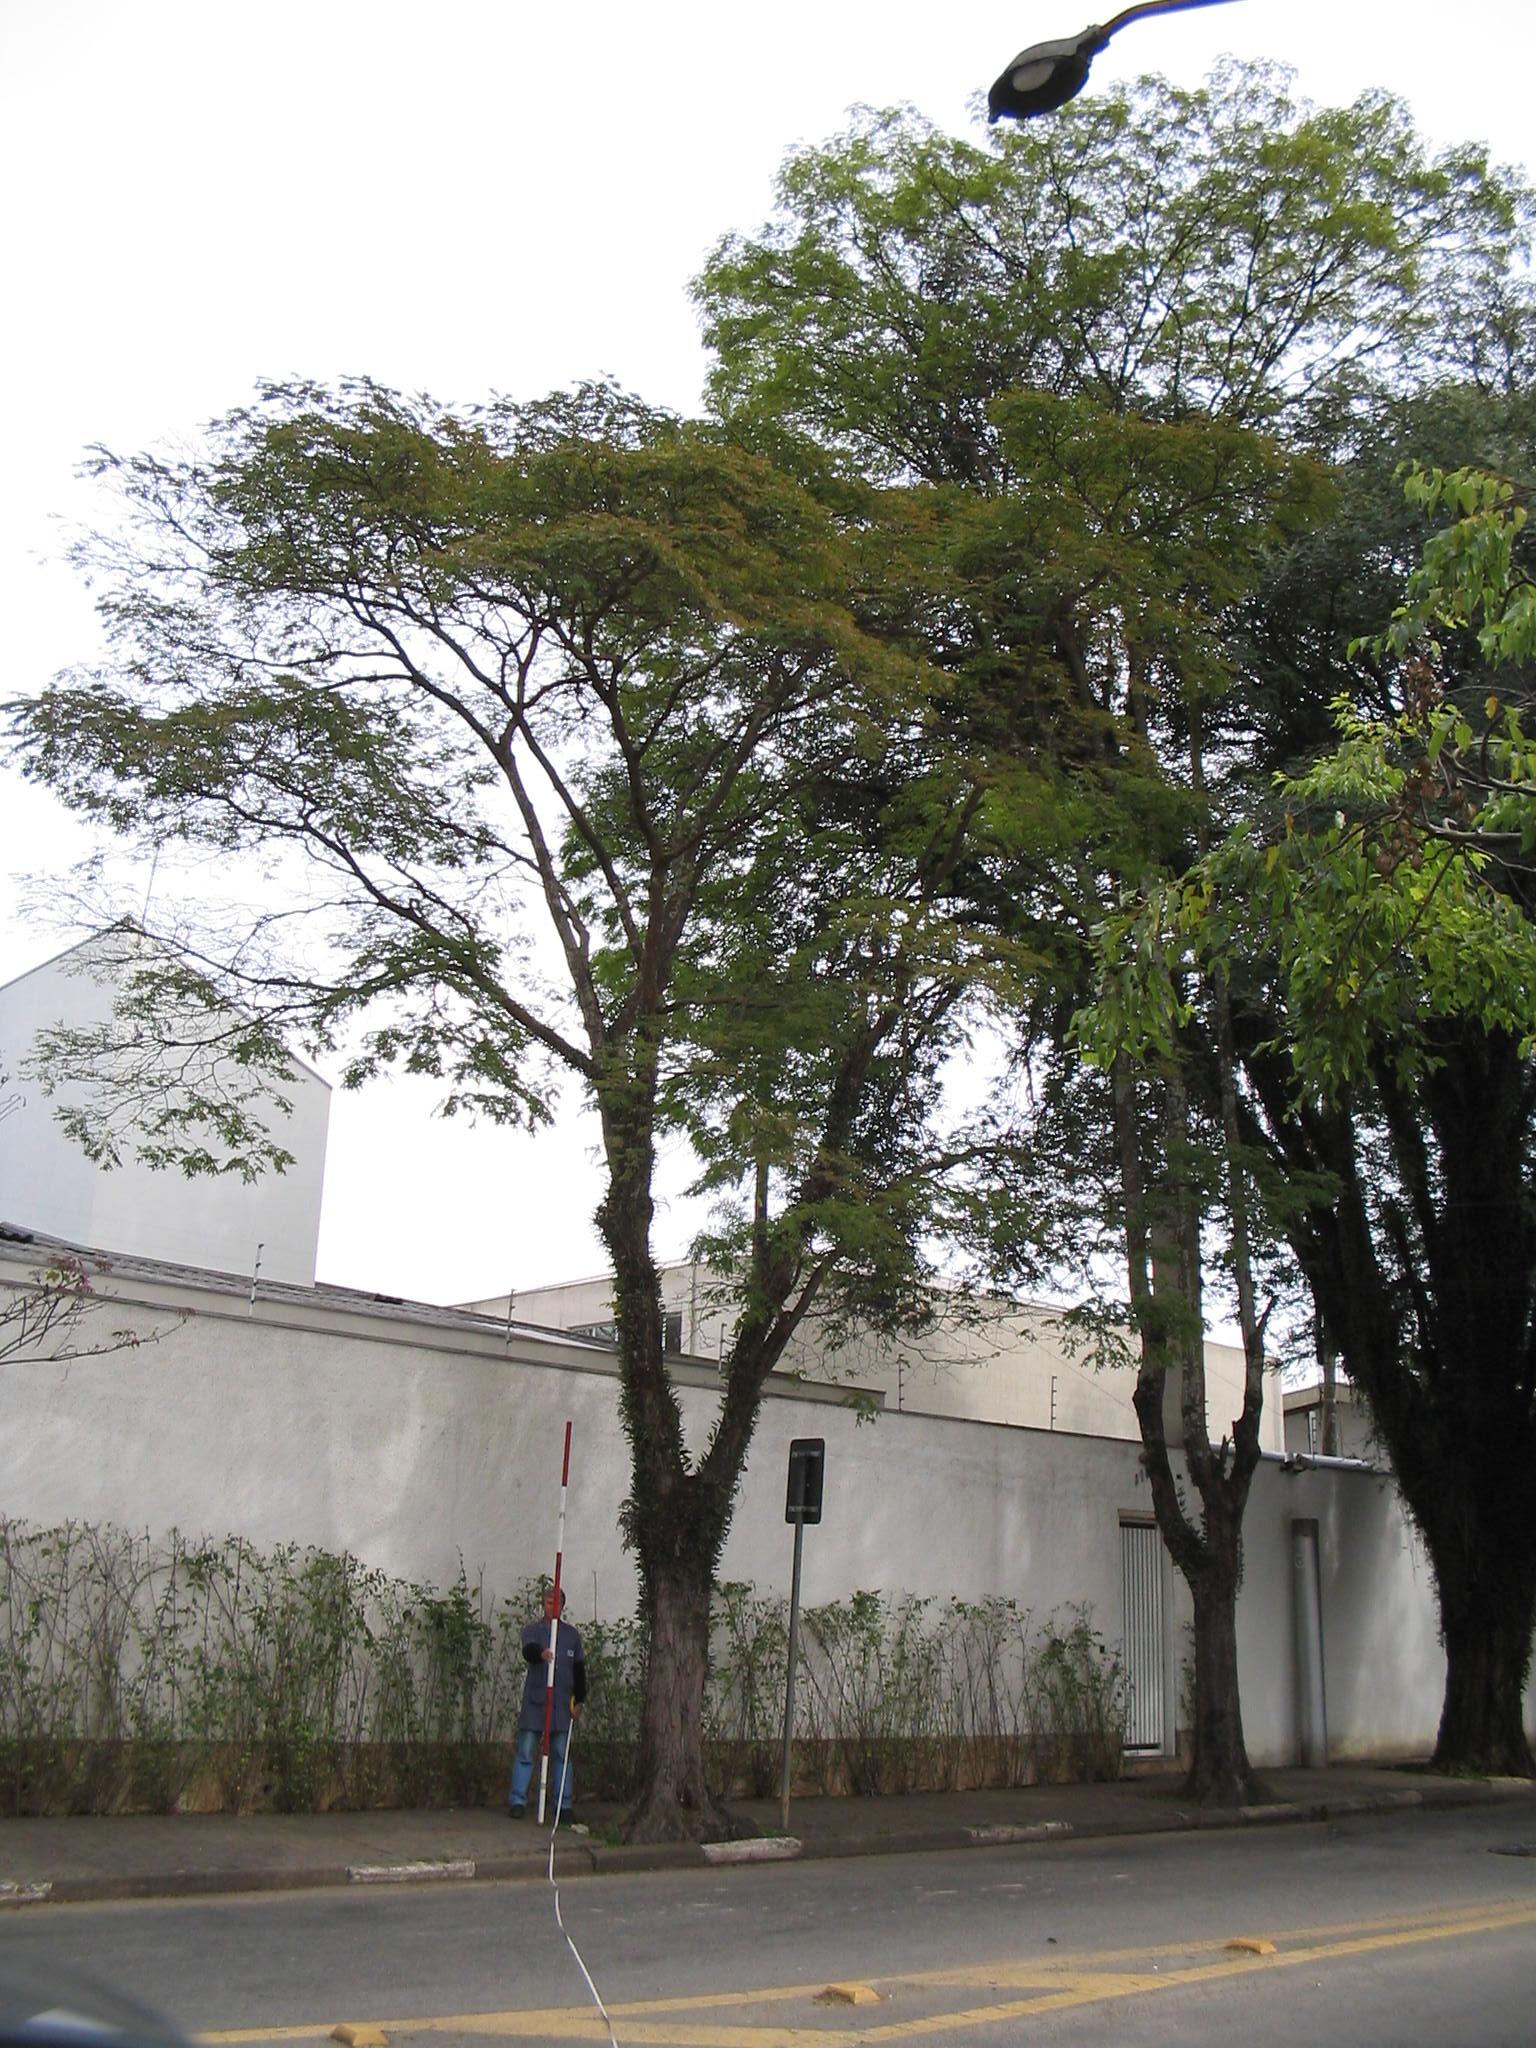crown: (19, 384, 1325, 1284)
stem: (1362, 1403, 1536, 1784), (599, 1492, 774, 1832), (1157, 1558, 1286, 1796)
stick: (516, 1421, 594, 1827)
tree: (11, 379, 1331, 1840)
